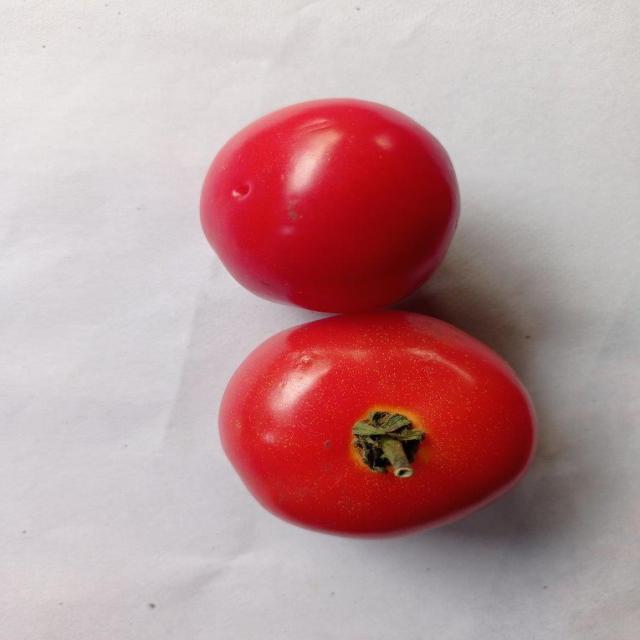Ripe: (215, 306, 538, 540), (187, 88, 466, 302)
